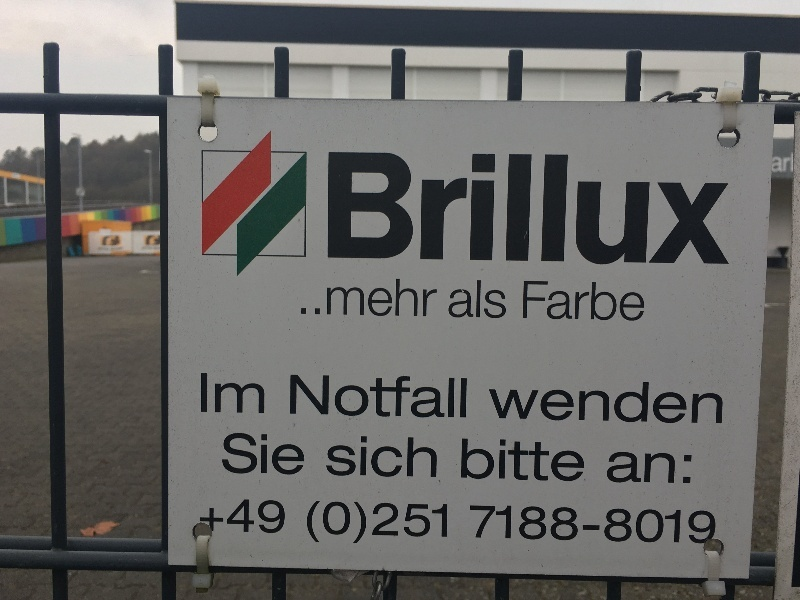text: (337, 150, 352, 269), (353, 150, 368, 269), (369, 150, 384, 269), (385, 150, 400, 269), (401, 150, 416, 269), (417, 150, 432, 269), (433, 150, 448, 269), (449, 150, 464, 269), (465, 150, 480, 269), (481, 150, 496, 269), (497, 150, 512, 269), (513, 150, 528, 269), (529, 150, 544, 269), (545, 150, 560, 269), (561, 150, 576, 269), (577, 150, 592, 269), (593, 150, 608, 269), (609, 150, 624, 269), (625, 150, 640, 269), (641, 150, 656, 269), (657, 150, 672, 269), (673, 150, 688, 269), (689, 150, 704, 269), (705, 150, 720, 269), (327, 150, 336, 269), (721, 150, 730, 269), (433, 502, 449, 549), (321, 502, 336, 549), (337, 502, 352, 549), (353, 502, 368, 549), (369, 502, 384, 549), (385, 502, 400, 549), (401, 502, 416, 549), (417, 502, 432, 549), (497, 379, 512, 426), (513, 379, 528, 426), (529, 379, 544, 426), (545, 379, 560, 426), (561, 379, 576, 426), (577, 379, 592, 426), (593, 379, 608, 426), (609, 379, 624, 426), (625, 379, 640, 426), (641, 379, 656, 426), (657, 379, 672, 426), (673, 379, 688, 426), (689, 379, 704, 426), (705, 379, 720, 426), (225, 431, 240, 477), (241, 431, 256, 477), (257, 431, 272, 477), (273, 431, 288, 477), (289, 431, 304, 477), (465, 439, 480, 484), (481, 439, 496, 484), (497, 439, 512, 484), (513, 439, 528, 484), (529, 439, 544, 484), (545, 439, 560, 484), (561, 439, 576, 484), (305, 375, 320, 419), (321, 375, 336, 419), (337, 375, 352, 419), (353, 375, 368, 419), (369, 375, 384, 419), (385, 375, 400, 419), (401, 375, 416, 419), (417, 375, 432, 419), (433, 375, 448, 419), (449, 375, 464, 419), (306, 502, 320, 549), (337, 436, 352, 479), (353, 436, 368, 479), (369, 436, 384, 479), (385, 436, 400, 479), (401, 436, 416, 479), (417, 436, 432, 479), (209, 373, 224, 415), (225, 373, 240, 415), (241, 373, 256, 415), (290, 375, 304, 419), (481, 505, 496, 546), (497, 505, 512, 546), (513, 505, 528, 546), (529, 505, 544, 546), (545, 505, 560, 546), (561, 505, 576, 546), (577, 505, 592, 546), (593, 505, 608, 546), (609, 505, 624, 546), (625, 505, 640, 546), (641, 505, 656, 546), (657, 505, 672, 546), (673, 505, 688, 546), (689, 505, 704, 546), (529, 281, 544, 322), (545, 281, 560, 322), (561, 281, 576, 322), (577, 281, 592, 322), (593, 281, 608, 322), (609, 281, 624, 322), (625, 281, 640, 322), (465, 279, 480, 320), (481, 279, 496, 320), (305, 278, 320, 317), (321, 278, 336, 317), (337, 278, 352, 317), (353, 278, 368, 317), (369, 278, 384, 317), (385, 278, 400, 317), (401, 278, 416, 317), (417, 278, 432, 317), (450, 279, 464, 320), (209, 501, 224, 536), (225, 501, 240, 536), (241, 501, 256, 536), (257, 501, 272, 536), (625, 452, 640, 486), (641, 452, 656, 486), (657, 452, 672, 486), (673, 452, 688, 486), (705, 505, 717, 546), (610, 452, 624, 486), (273, 501, 286, 536), (469, 505, 480, 546), (497, 279, 508, 320), (433, 278, 444, 317), (577, 439, 586, 484), (257, 373, 266, 415), (489, 379, 496, 426), (329, 436, 336, 479), (201, 373, 208, 415), (641, 281, 648, 322), (200, 501, 208, 536), (773, 152, 784, 173), (433, 436, 438, 479), (785, 152, 794, 173), (721, 379, 725, 426), (524, 281, 528, 322), (465, 375, 468, 419), (301, 278, 304, 317), (689, 452, 692, 486), (462, 439, 464, 484), (305, 431, 306, 477)
